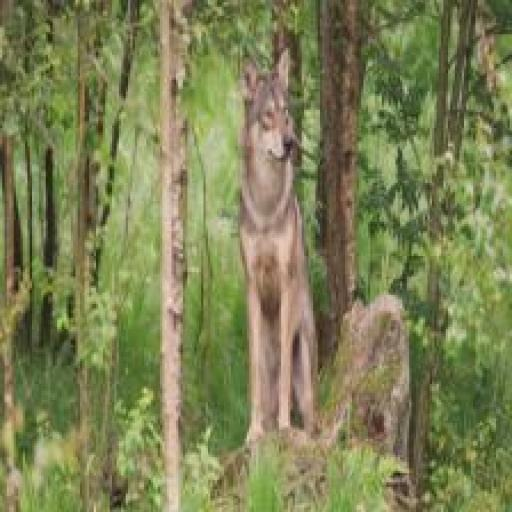wolf: (219, 30, 350, 451)
